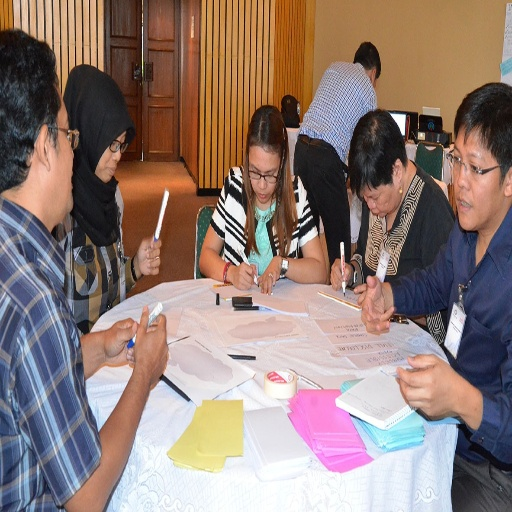hand: (132, 304, 167, 393), (399, 355, 447, 417), (358, 272, 394, 336), (103, 315, 141, 368), (134, 232, 162, 278), (253, 250, 280, 294), (329, 258, 356, 294), (231, 258, 256, 291), (353, 280, 367, 308)
